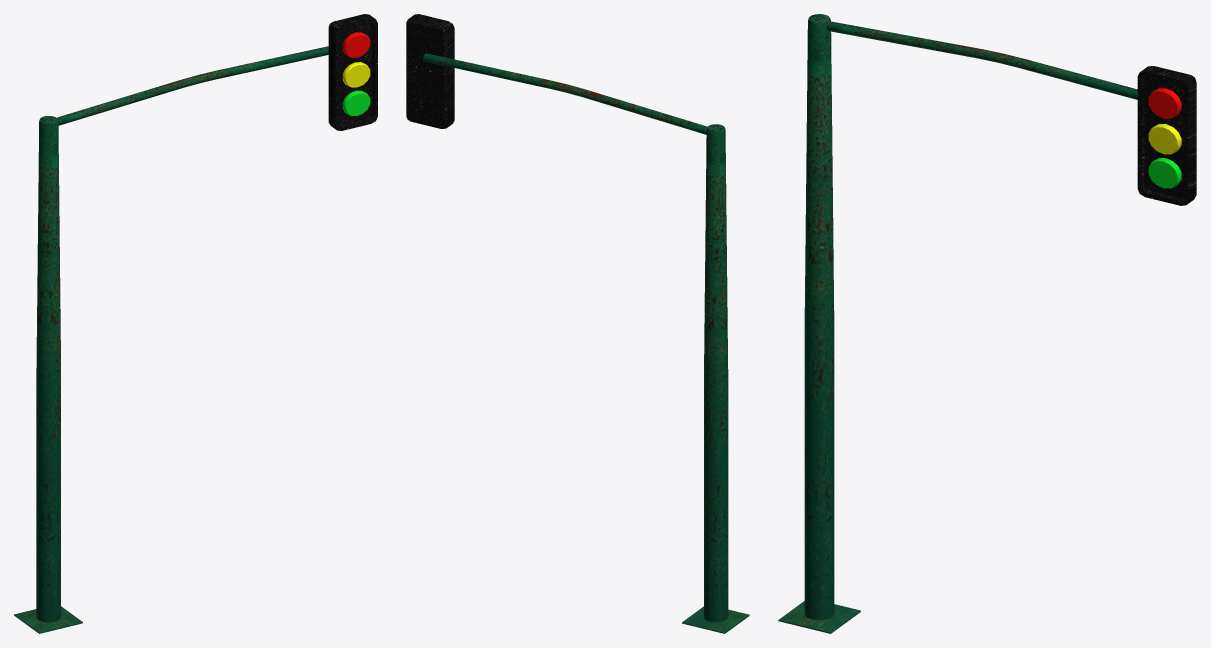
Rendered from semaforo.fbx.
3 renders of one model, left to right at view 1: azimuth 30°, elevation 25°; view 2: azimuth 150°, elevation 25°; view 3: azimuth 330°, elevation 25°, orthographic. The views are drawn at different scales.
Visible parts, largest first — view 1: Cylinder.001; view 2: Cylinder.001; view 3: Cylinder.001.
Boxes of the visible parts, x1,y1,x2,y2 form: Cylinder.001: (14, 14, 377, 633); Cylinder.001: (406, 14, 749, 633); Cylinder.001: (778, 14, 1196, 633).
Bounding box in the file's own units: 125 × 187 × 16.05.
